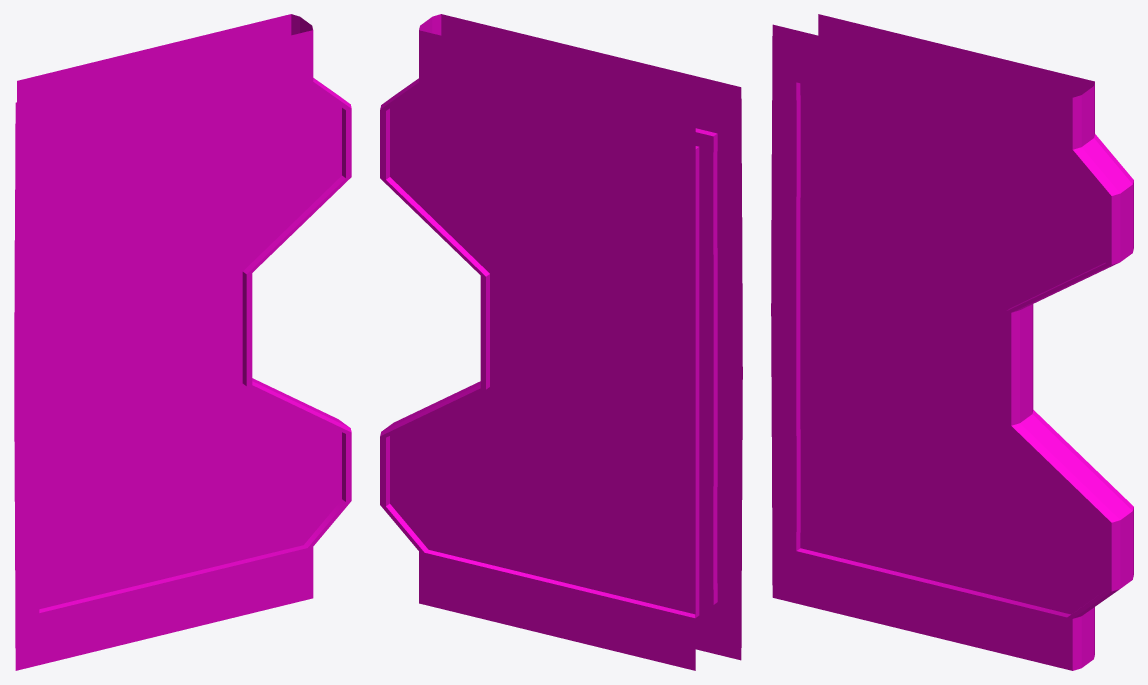
Rendered from DoorLeft.FBX.
The picture shows the model from 3 angles, left to right: view 1: azimuth 30°, elevation 25°; view 2: azimuth 150°, elevation 25°; view 3: azimuth 330°, elevation 25°; orthographic projection.
Parts seen in each view (by area): view 1: DoorLeft; view 2: DoorLeft; view 3: DoorLeft.
Part boxes in pixels (bbox=[...]): DoorLeft: bbox=[14, 14, 351, 670]; DoorLeft: bbox=[380, 14, 742, 670]; DoorLeft: bbox=[771, 14, 1133, 670].
Size of the model in its own units: 5.17 by 8.23 by 0.5769.
